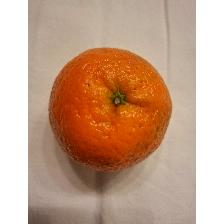Mandarine: (46, 44, 174, 176)
